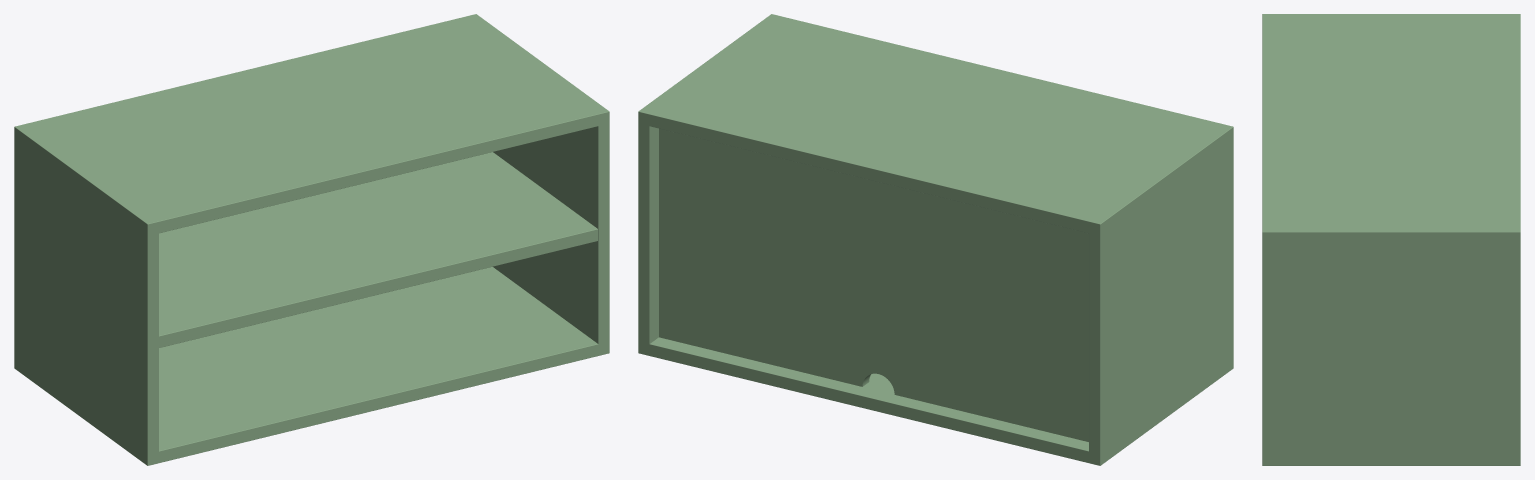
Rendered from MOD-2X1-S-B-AP-SA.glb.
3 views of the same model, side by side, from view 1: azimuth 30°, elevation 25°; view 2: azimuth 150°, elevation 25°; view 3: azimuth 270°, elevation 25° (orthographic). The views are drawn at different scales.
Bounding box in the file's own units: 720 × 360 × 360.
